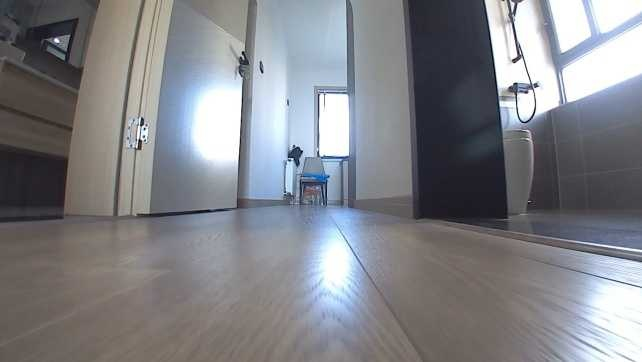door_anno: (110, 0, 254, 219)
door_sill: (422, 215, 641, 261)
toilet: (499, 128, 542, 215)
